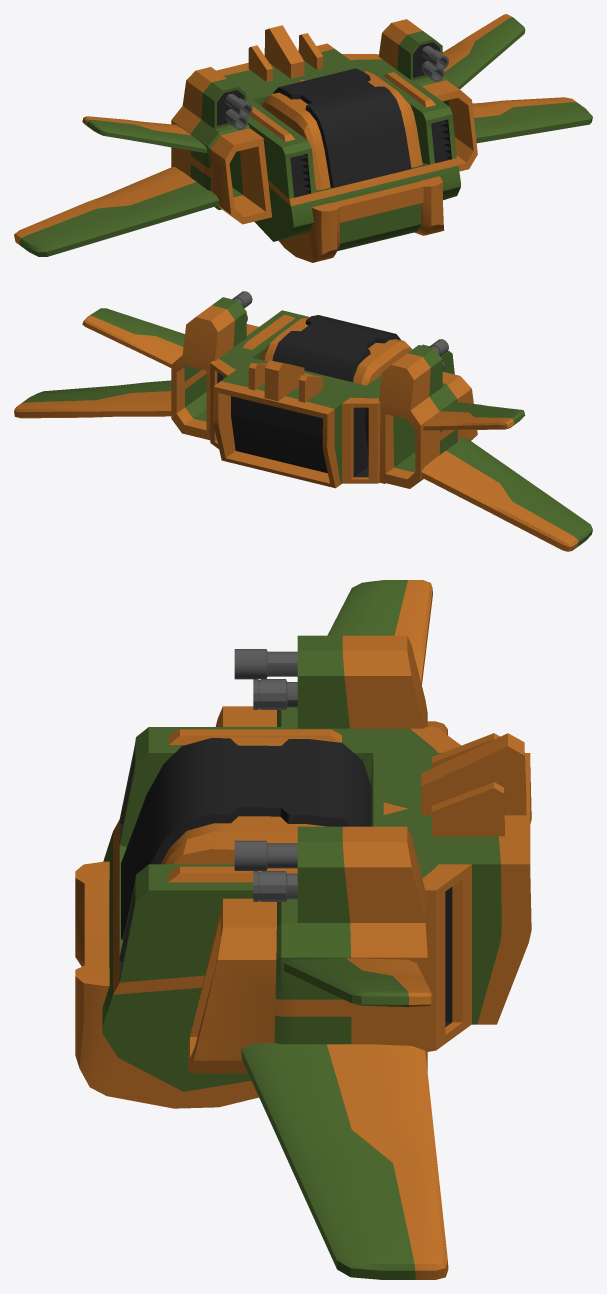
The model's file is spaceship.glb.
3 renders of one model, top to bottom at view 1: azimuth 30°, elevation 25°; view 2: azimuth 150°, elevation 25°; view 3: azimuth 270°, elevation 25°, orthographic. The views are drawn at different scales.
Parts seen in each view (by area): view 1: Spaceship_FinnTheFrog; view 2: Spaceship_FinnTheFrog; view 3: Spaceship_FinnTheFrog.
Boxes of the visible parts, x1,y1,x2,y2 form: Spaceship_FinnTheFrog: (14,14,592,262); Spaceship_FinnTheFrog: (14,291,592,551); Spaceship_FinnTheFrog: (75,580,531,1279).
Size of the model in its own units: 11.62 by 3.06 by 4.11.
1 material, 1 textured.
